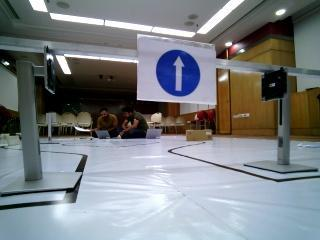straight: (138, 38, 217, 102)
